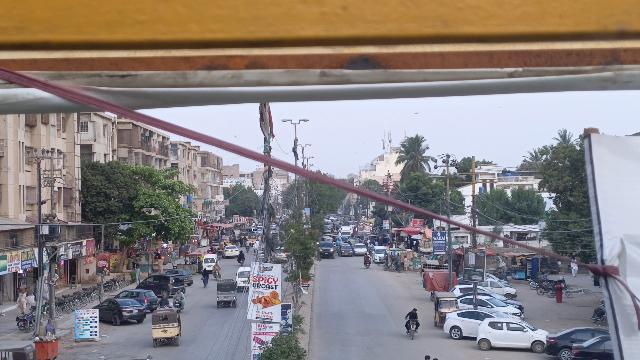Bike: (404, 318, 421, 340), (173, 296, 183, 312)
Car: (475, 315, 549, 352), (443, 306, 513, 339), (544, 325, 607, 359), (91, 297, 147, 324), (136, 272, 187, 298), (570, 333, 611, 360), (116, 289, 159, 309)
Person: (405, 307, 421, 322), (43, 318, 57, 334), (171, 288, 188, 301), (199, 268, 210, 288)
Rickshaw: (148, 308, 183, 349), (431, 290, 459, 327), (214, 277, 240, 309)
Van: (235, 265, 250, 290), (202, 254, 217, 273)
